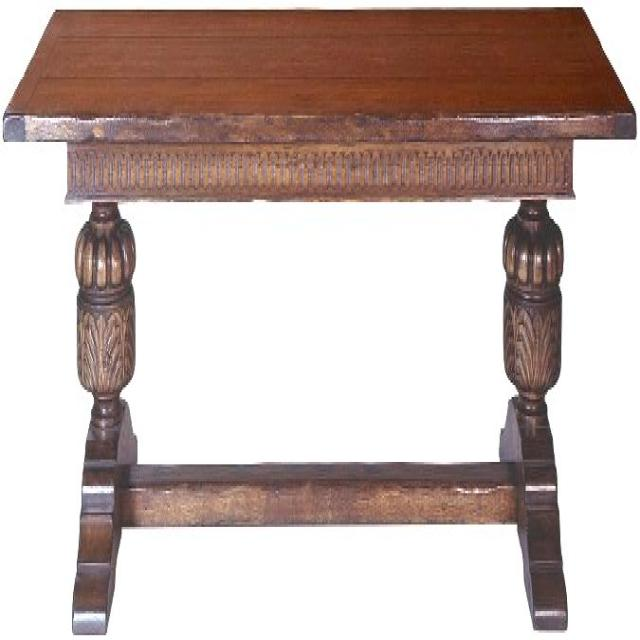table: (2, 9, 636, 628)
